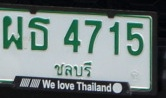txt19: (27, 16, 51, 52)
txt23: (1, 14, 23, 50)
